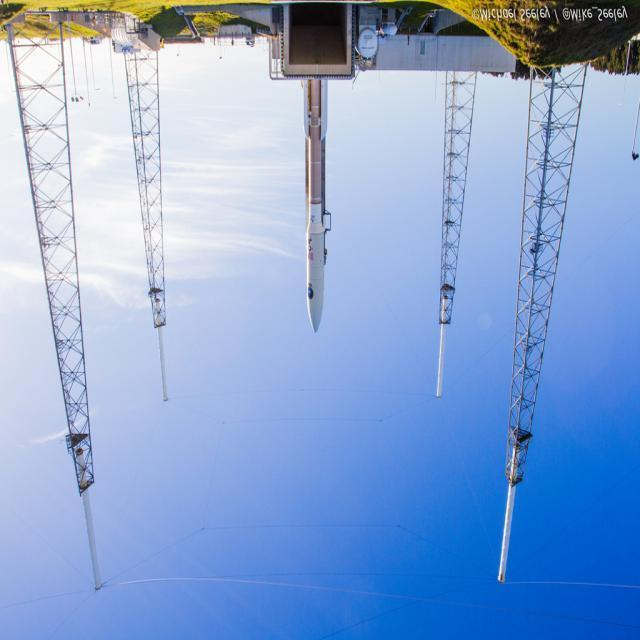missile: (300, 84, 331, 335)
